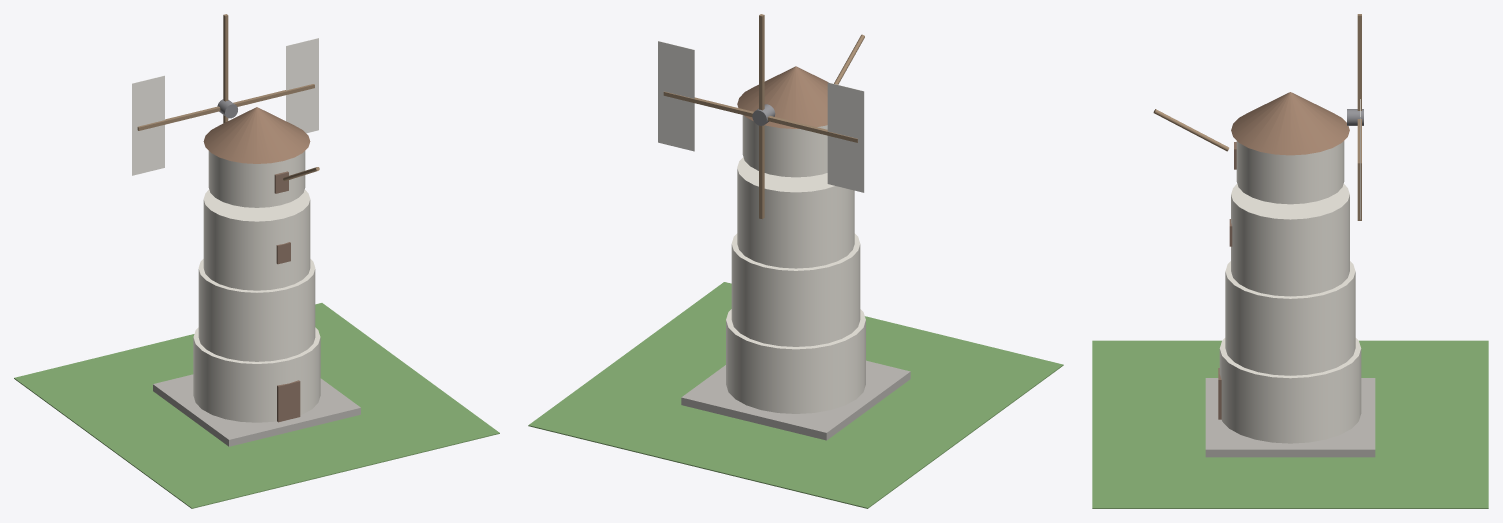
Rendered from windmill.glb.
The picture shows the model from 3 angles, left to right: view 1: azimuth 30°, elevation 25°; view 2: azimuth 150°, elevation 25°; view 3: azimuth 270°, elevation 25°; orthographic projection. The views are drawn at different scales.
Parts seen in each view (by area): view 1: ground, tier_3, tier_2, tier_1, foundation, cap, tier_4, sail1_canvas_1, sail1_canvas_2, sail1_canvas_3, sail1_canvas_4, sail1_beam_h (+2 smaller); view 2: ground, tier_2, tier_3, tier_1, foundation, tier_4, cap, sail1_canvas_1, sail1_canvas_3, sail1_canvas_2, sail1_canvas_4, sail2_beam_v (+1 smaller); view 3: ground, tier_3, tier_2, tier_1, foundation, tier_4, cap, sail2_beam_v.
Part boxes in pixels (x1=…): ground: x1=14, y1=303, x2=499, y2=508; tier_3: x1=203, y1=189, x2=310, y2=290; tier_2: x1=198, y1=259, x2=315, y2=361; tier_1: x1=193, y1=327, x2=320, y2=422; foundation: x1=153, y1=374, x2=360, y2=446; cap: x1=203, y1=107, x2=310, y2=163; tier_4: x1=208, y1=151, x2=305, y2=207; sail1_canvas_1: x1=132, y1=75, x2=164, y2=129; sail1_canvas_2: x1=286, y1=38, x2=318, y2=90; sail1_canvas_3: x1=132, y1=125, x2=164, y2=175; sail1_canvas_4: x1=286, y1=84, x2=318, y2=133; sail1_beam_h: x1=137, y1=84, x2=314, y2=130; ground: x1=528, y1=282, x2=1063, y2=508; tier_2: x1=731, y1=233, x2=860, y2=346; tier_3: x1=737, y1=157, x2=854, y2=268; tier_1: x1=726, y1=309, x2=865, y2=413; foundation: x1=681, y1=360, x2=910, y2=440; tier_4: x1=742, y1=115, x2=827, y2=177; cap: x1=737, y1=66, x2=828, y2=128; sail1_canvas_1: x1=827, y1=82, x2=864, y2=141; sail1_canvas_3: x1=827, y1=136, x2=864, y2=192; sail1_canvas_2: x1=658, y1=41, x2=694, y2=98; sail1_canvas_4: x1=658, y1=92, x2=694, y2=151; sail2_beam_v: x1=759, y1=14, x2=764, y2=219; ground: x1=1092, y1=340, x2=1488, y2=508; tier_3: x1=1231, y1=184, x2=1349, y2=296; tier_2: x1=1225, y1=261, x2=1355, y2=375; tier_1: x1=1219, y1=338, x2=1361, y2=443; foundation: x1=1205, y1=378, x2=1375, y2=457; tier_4: x1=1236, y1=141, x2=1344, y2=204; cap: x1=1231, y1=92, x2=1349, y2=155; sail2_beam_v: x1=1357, y1=14, x2=1361, y2=220.
Size of the model in its own units: 14 by 16 by 14.
